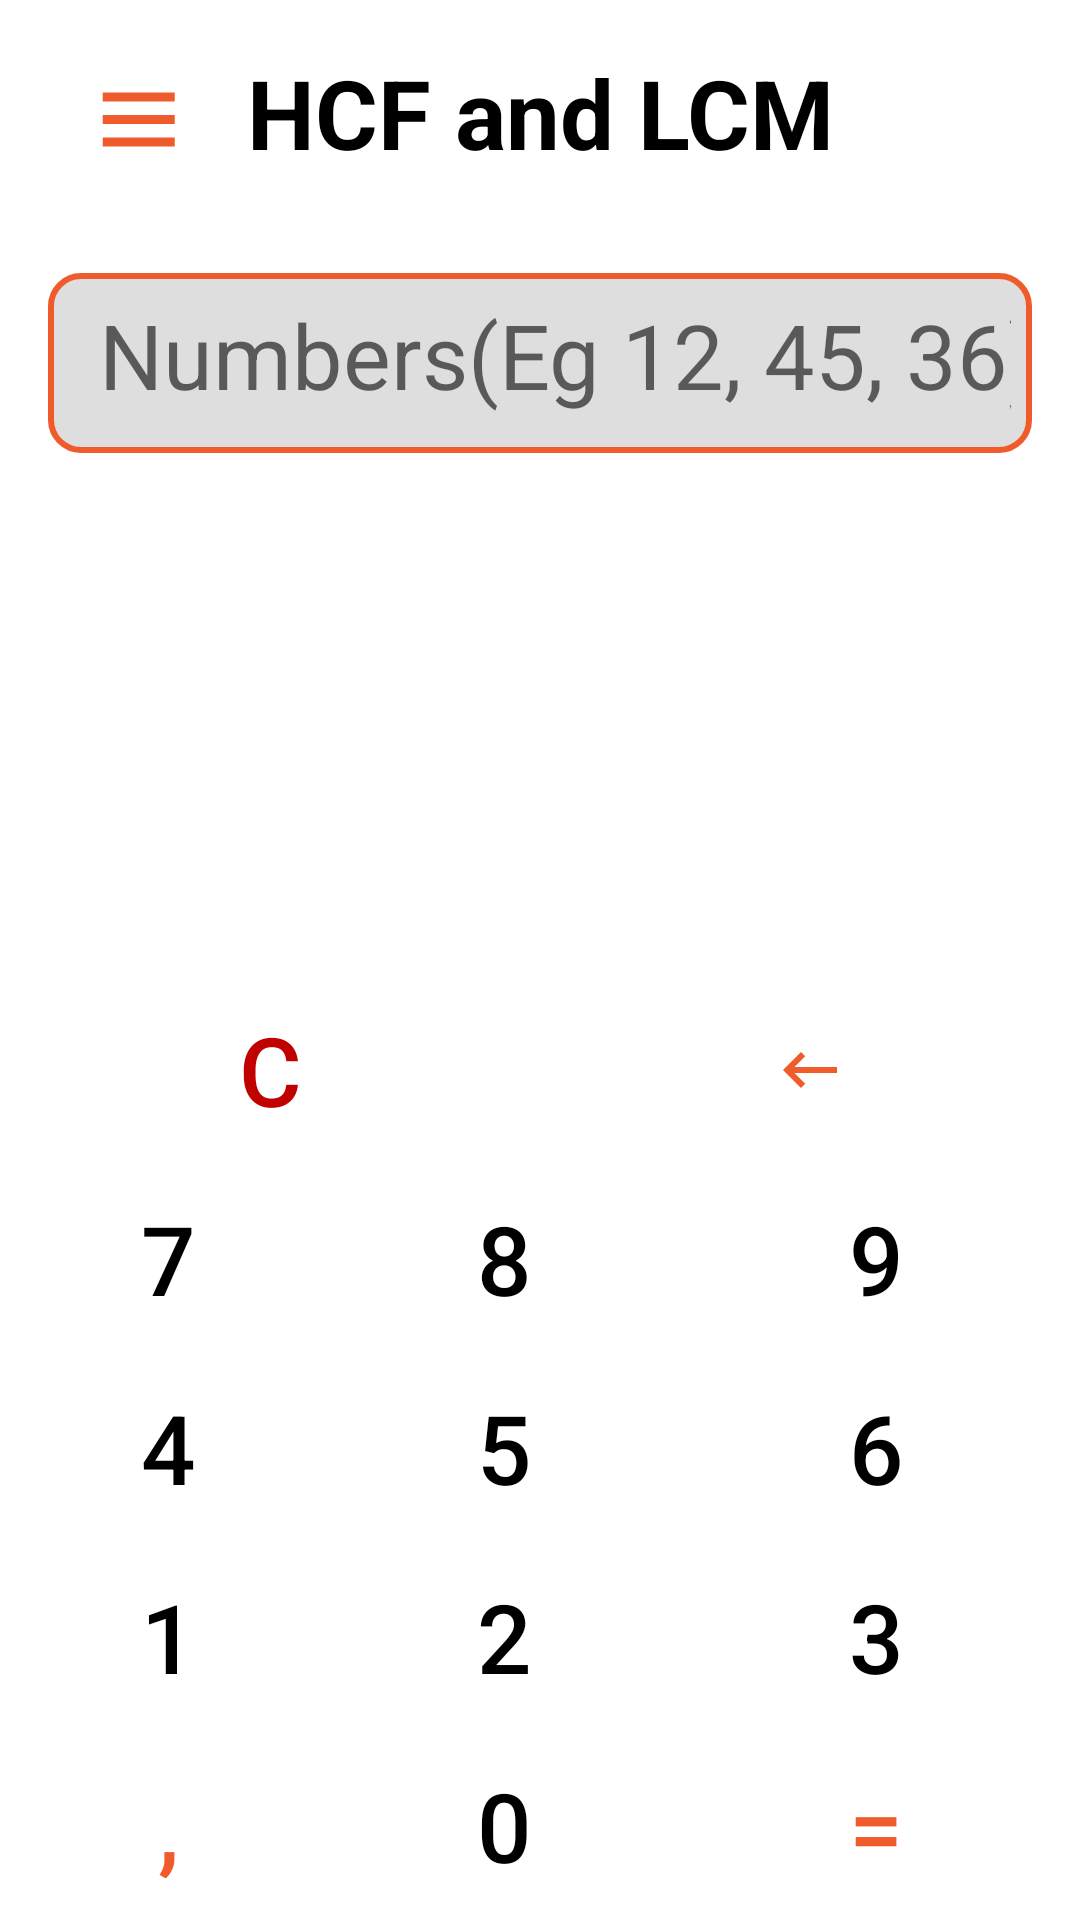

Screen size 1080x1920. Icon name, then its box in pixels as (left=x1, top=y1, right=x2, bottom=y2):
backspace: (left=783, top=1052, right=837, bottom=1088)
menu: (left=102, top=92, right=175, bottom=147)
